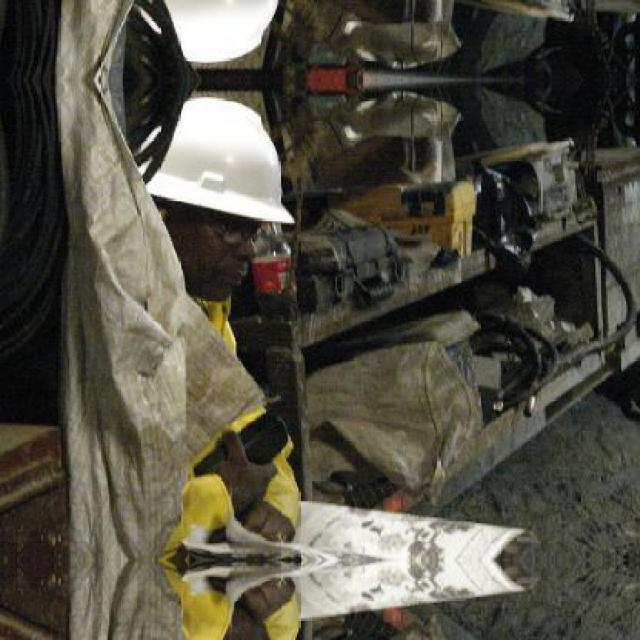hat: (119, 83, 299, 224)
